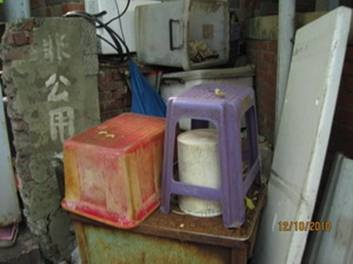box: (60, 110, 167, 231), (134, 1, 230, 71)
bucket: (176, 127, 224, 219)
